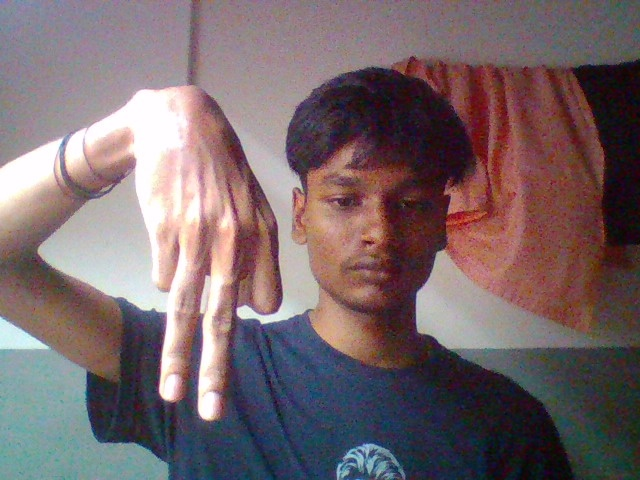N: (103, 96, 336, 443)
